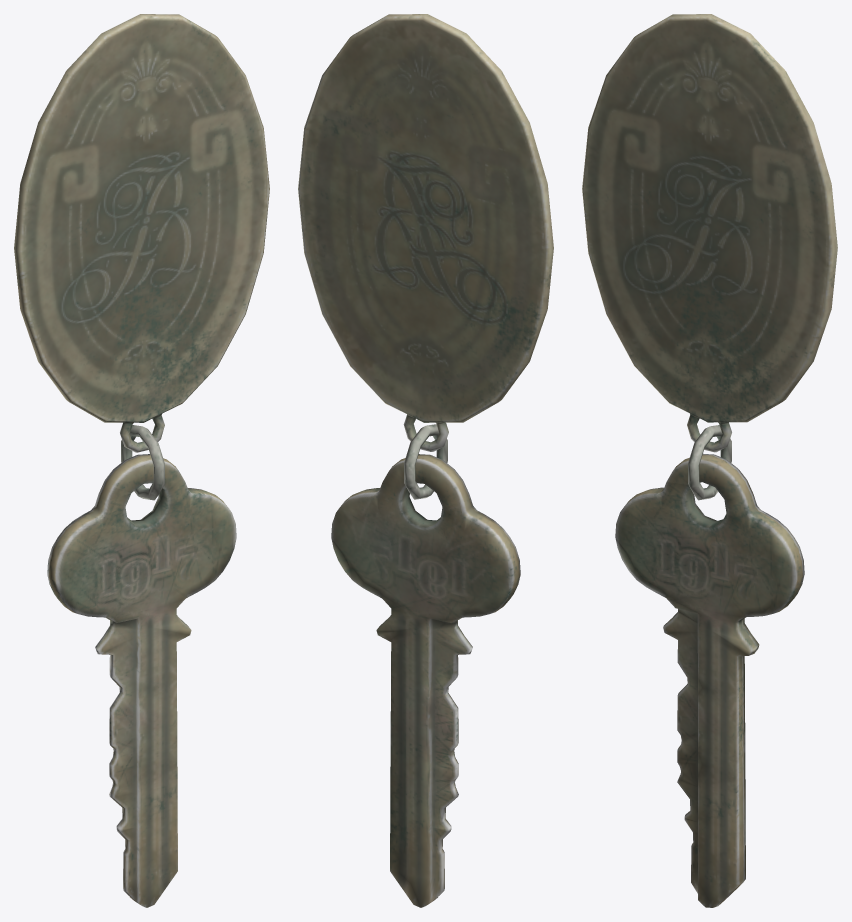
The model's file is key_07_tagged.glb.
3 renders of one model, left to right at view 1: azimuth 30°, elevation 25°; view 2: azimuth 150°, elevation 25°; view 3: azimuth 330°, elevation 25°, orthographic.
Parts seen in each view (by area): view 1: Key; view 2: Key; view 3: Key.
Boxes of the visible parts, x1,y1,x2,y2 form: Key: [14, 14, 269, 907]; Key: [298, 14, 553, 907]; Key: [582, 14, 837, 907].
Size of the model in its own units: 0.0445 by 0.15 by 0.0116.
Materials: 1 (1 with a texture image).
